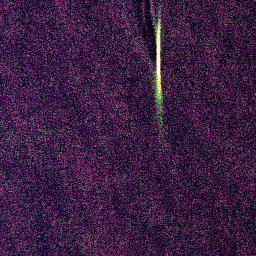Ship: (151, 18, 164, 83)
